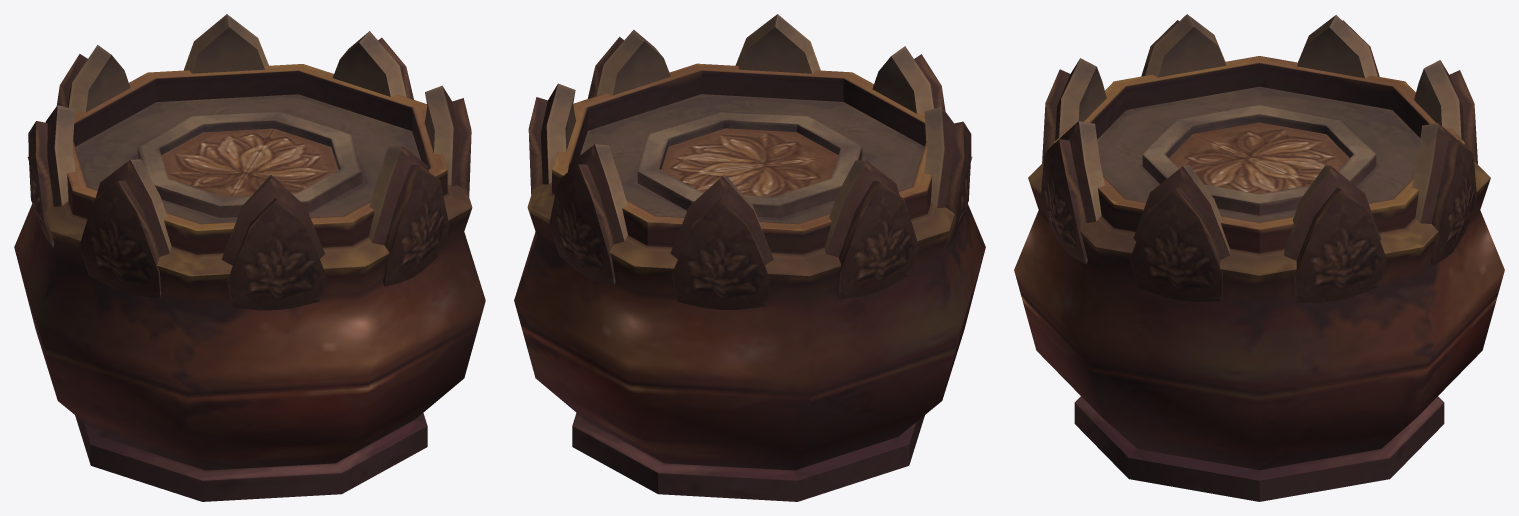
Rendered from sysd_prop04.FBX.
The picture shows the model from 3 angles, left to right: view 1: azimuth 30°, elevation 25°; view 2: azimuth 150°, elevation 25°; view 3: azimuth 270°, elevation 25°; orthographic projection.
Visible parts, largest first — view 1: sysd_prop04; view 2: sysd_prop04; view 3: sysd_prop04.
Part boxes in pixels (box(x1,y1,x2,y2)): sysd_prop04: box(14, 14, 485, 501); sysd_prop04: box(514, 14, 985, 501); sysd_prop04: box(1014, 14, 1504, 501).
Bounding box in the file's own units: 340 × 254 × 340.
1 material, 1 textured.
